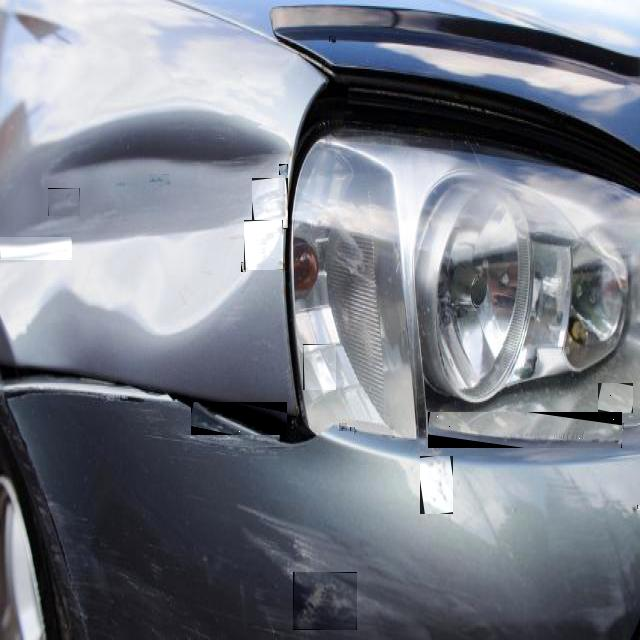Dent: (428, 412, 622, 448), (293, 572, 357, 630), (191, 402, 287, 435), (244, 220, 283, 270), (420, 456, 453, 514), (252, 178, 288, 229), (0, 238, 72, 262), (303, 344, 336, 390), (598, 383, 633, 413), (48, 188, 80, 216), (585, 414, 619, 428), (492, 417, 508, 432), (149, 174, 169, 182), (288, 416, 296, 429), (279, 164, 288, 175), (339, 423, 347, 431), (276, 257, 283, 266), (241, 262, 246, 272), (611, 410, 618, 417), (616, 423, 624, 429), (329, 36, 336, 42), (350, 428, 355, 433), (637, 506, 640, 512)
